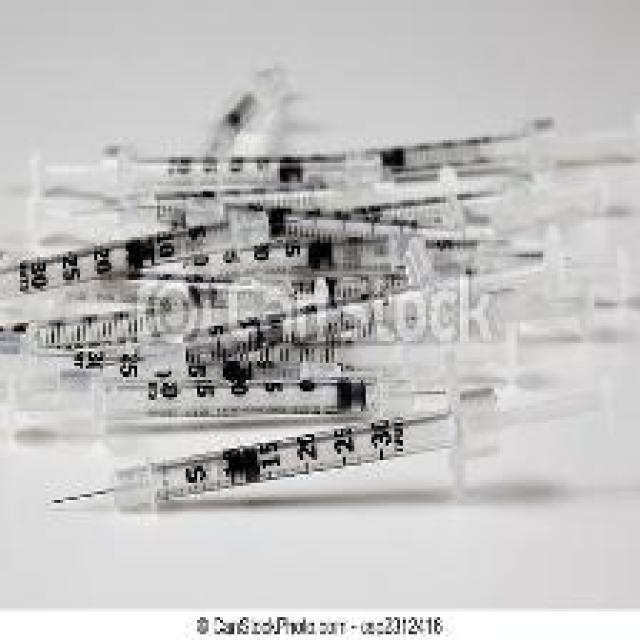syringe: (34, 52, 618, 402), (64, 402, 525, 520)
